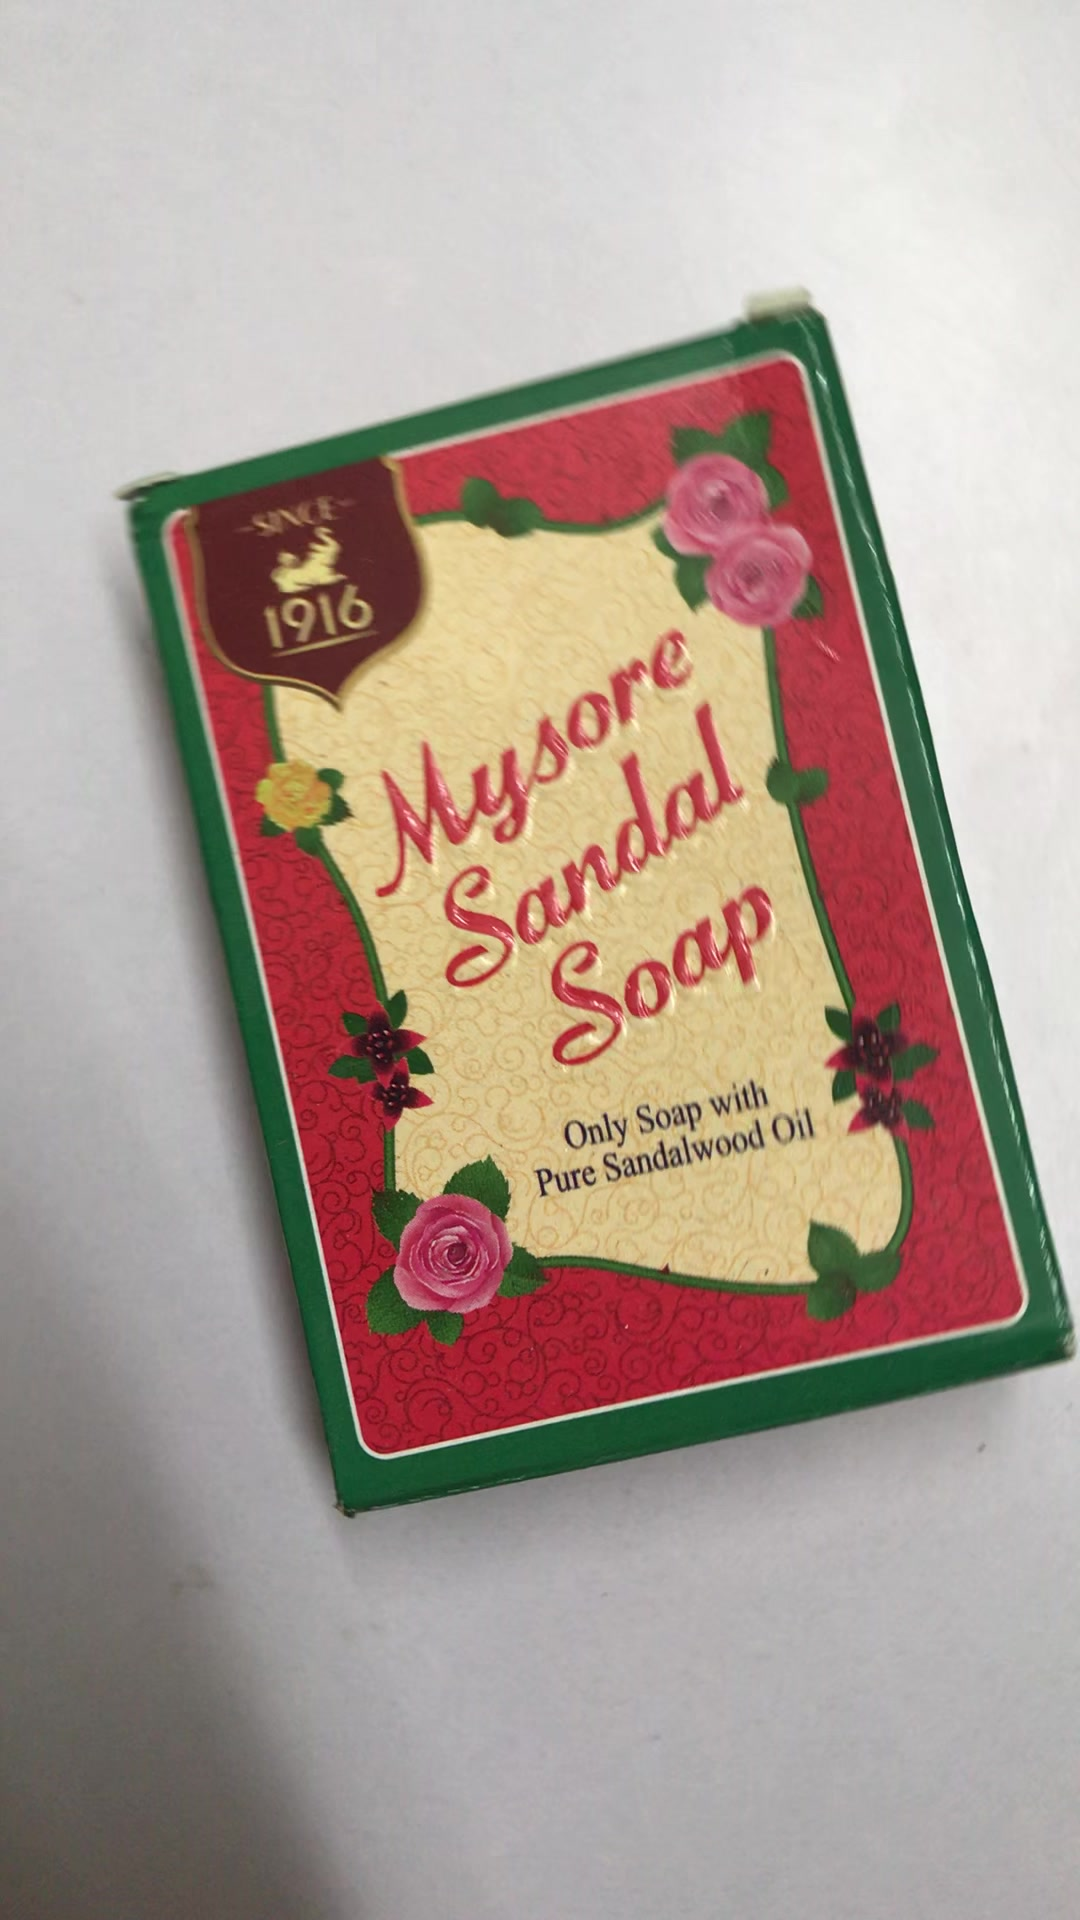mysore sandal soap: (123, 291, 1080, 1514)
